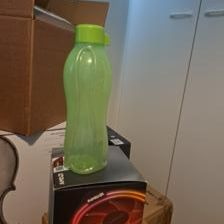bottle: (60, 22, 120, 174)
